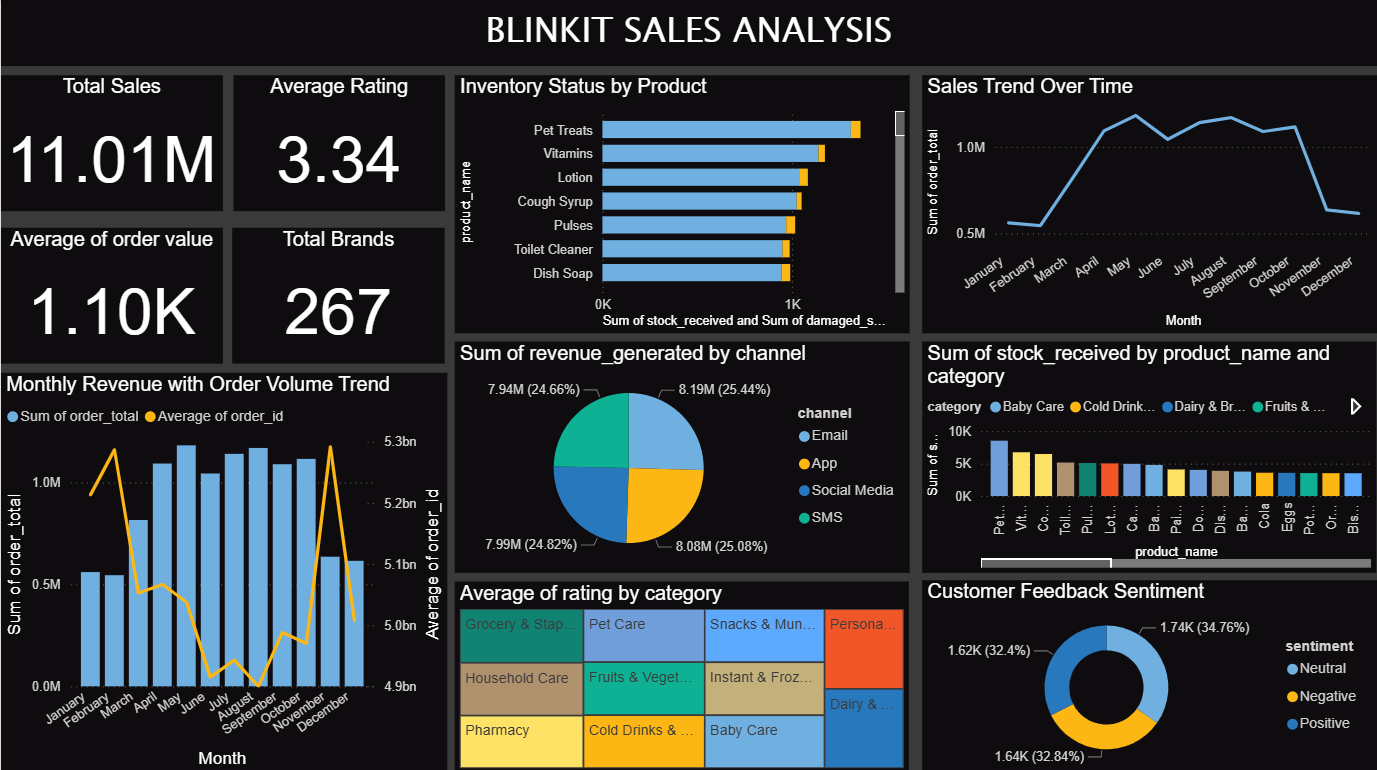

This screenshot's page, from the dashboard's own definition file:
{"tool":"powerbi","page":{"name":"Blinkit Dashboard","canvas":[1280,720],"ordinal":0},"visuals":[{"type":"card","title":"Total Sales","fields":{"Values":["Sum(blinkit_orders - Copy.order_total)"]},"box":[0,71.5,206.1,126.2],"z":0},{"type":"card","title":"Average of order value","fields":{"Values":["Avg(blinkit_customers csv.avg_order_value)"]},"box":[0,212.4,206.1,126.2],"z":1000},{"type":"lineChart","title":"Sales Trend Over Time","fields":{"Category":["blinkit_orders - Copy.order_date.Variation.Date Hierarchy.Month"],"Y":["Sum(blinkit_orders - Copy.order_total)"]},"box":[857,71,423,240],"z":2000},{"type":"barChart","title":" Inventory Status by Product","fields":{"Category":["blinkit_products csv.product_name"],"Y":["Sum(blinkit_inventoryNew csv.stock_received)","Sum(blinkit_inventoryNew csv.damaged_stock)"]},"box":[422,71,423,240],"z":3000},{"type":"card","title":"Average Rating","fields":{"Values":["Avg(blinkit_customer_feedback csv.rating)"]},"box":[216.6,71.5,196.6,126.2],"z":4000},{"type":"donutChart","title":"Customer Feedback Sentiment","fields":{"Category":["blinkit_customer_feedback csv.sentiment"],"Y":["Count(blinkit_customer_feedback csv.feedback_id)"]},"box":[857,541,423,179],"z":5000},{"type":"treemap","fields":{"Group":["blinkit_products csv.category"],"Values":["Avg(blinkit_customer_feedback csv.rating)"]},"box":[421.6,541.5,422.7,178.7],"z":6000},{"type":"pieChart","fields":{"Category":["blinkit_marketing_performance csv.channel"],"Y":["Sum(blinkit_marketing_performance csv.revenue_generated)"]},"box":[422,319,423,215],"z":7000},{"type":"columnChart","fields":{"Category":["blinkit_products csv.product_name"],"Series":["blinkit_products csv.category"],"Y":["Sum(blinkit_inventory csv.stock_received)"]},"box":[856.9,318.6,422.7,215.5],"z":8000},{"type":"card","title":"Total Brands","fields":{"Values":["Count(blinkit_products csv.brand)"]},"box":[215.5,212.4,197.7,126.2],"z":9000},{"type":"lineStackedColumnComboChart","title":"Monthly Revenue with Order Volume Trend","fields":{"Category":["blinkit_orders - Copy.order_date.Variation.Date Hierarchy.Month"],"Y":["Sum(blinkit_orders - Copy.order_total)"],"Y2":["Avg(blinkit_orders - Copy.order_id)"]},"box":[0,348,415.3,372.2],"z":10000},{"type":"textbox","box":[0,0,1280,62],"z":11000}]}

Visuals, with their boxes in screenshot pixels (x1, y1, x2, y2), scaled from the page's 1280x720 canvas onto the 1377x770 screenshot:
"Total Sales" card: select_region(0, 76, 222, 211)
"Average of order value" card: select_region(0, 227, 222, 362)
"Sales Trend Over Time" lineChart: select_region(922, 76, 1376, 333)
" Inventory Status by Product" barChart: select_region(454, 76, 909, 333)
"Average Rating" card: select_region(233, 76, 445, 211)
"Customer Feedback Sentiment" donutChart: select_region(922, 579, 1376, 769)
treemap - blinkit_products csv.category x Avg(blinkit_customer_feedback csv.rating): select_region(454, 579, 908, 769)
pieChart - blinkit_marketing_performance csv.channel x Sum(blinkit_marketing_performance csv.revenue_generated): select_region(454, 341, 909, 571)
columnChart - blinkit_products csv.product_name x blinkit_products csv.category: select_region(922, 341, 1376, 571)
"Total Brands" card: select_region(232, 227, 445, 362)
"Monthly Revenue with Order Volume Trend" lineStackedColumnComboChart: select_region(0, 372, 447, 769)
textbox: select_region(0, 0, 1376, 66)
